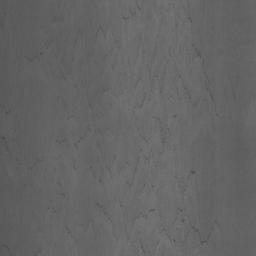Silk spot: (0, 0, 219, 256)
